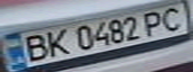0: (72, 21, 96, 51)
2: (121, 12, 145, 42)
4: (93, 19, 112, 47)
8: (106, 16, 127, 45)
B: (18, 32, 51, 62)
C: (154, 3, 193, 33)
K: (42, 27, 72, 57)
P: (139, 8, 172, 36)
